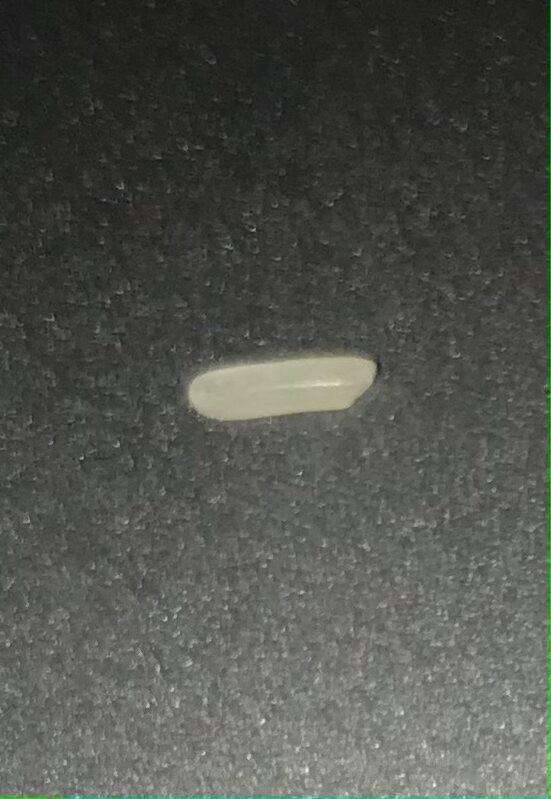Gao Long Lai: (186, 351, 383, 429)
